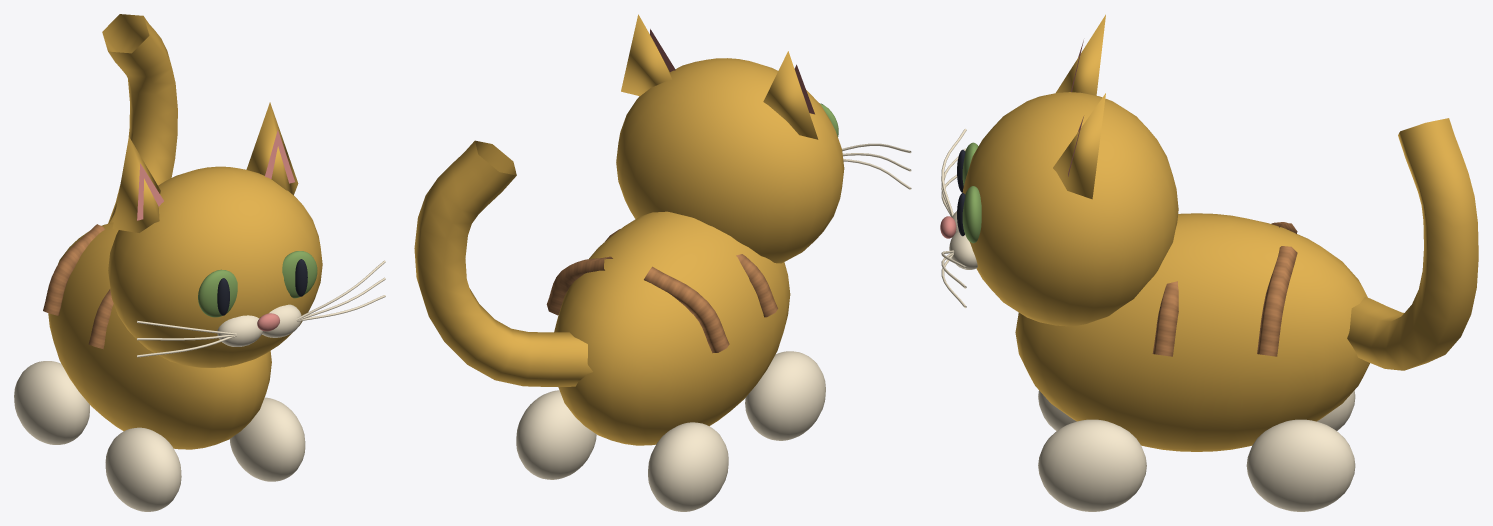
File: cat.glb
The picture shows the model from 3 angles, left to right: view 1: azimuth 30°, elevation 25°; view 2: azimuth 150°, elevation 25°; view 3: azimuth 270°, elevation 25°; orthographic projection. The views are drawn at different scales.
Parts seen in each view (by area): view 1: Crafted_gold, Crafted_cream, Crafted_wood, Crafted_lightleaf, Crafted_pink, Crafted_ink; view 2: Crafted_gold, Crafted_cream, Crafted_wood; view 3: Crafted_gold, Crafted_cream, Crafted_wood, Crafted_lightleaf.
Boxes of the visible parts, box(x1,y1,x2,y2) form: Crafted_gold: box(48, 14, 322, 449); Crafted_cream: box(14, 260, 385, 511); Crafted_wood: box(43, 224, 113, 349); Crafted_lightleaf: box(198, 251, 317, 317); Crafted_pink: box(137, 130, 294, 331); Crafted_ink: box(217, 259, 307, 315); Crafted_gold: box(414, 14, 844, 445); Crafted_cream: box(516, 143, 911, 511); Crafted_wood: box(546, 229, 777, 353); Crafted_gold: box(962, 14, 1478, 451); Crafted_cream: box(941, 128, 1355, 511); Crafted_wood: box(1152, 222, 1297, 356); Crafted_lightleaf: box(962, 142, 981, 243).
Bounding box in the file's own units: 0.7327 × 1.02 × 1.19.
6 materials, 1 textured.
